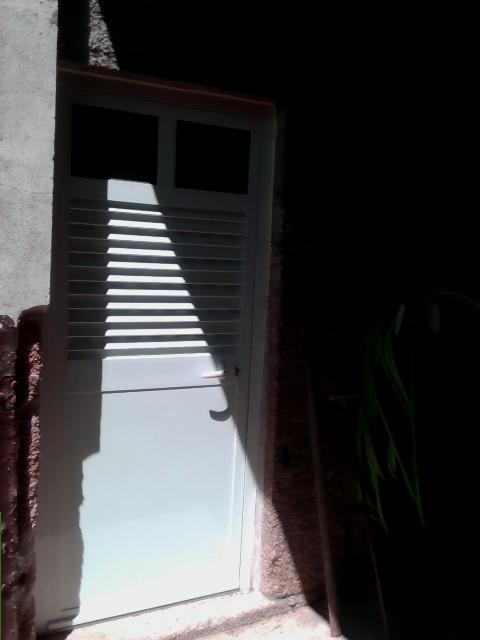closed_door: (34, 68, 272, 639)
